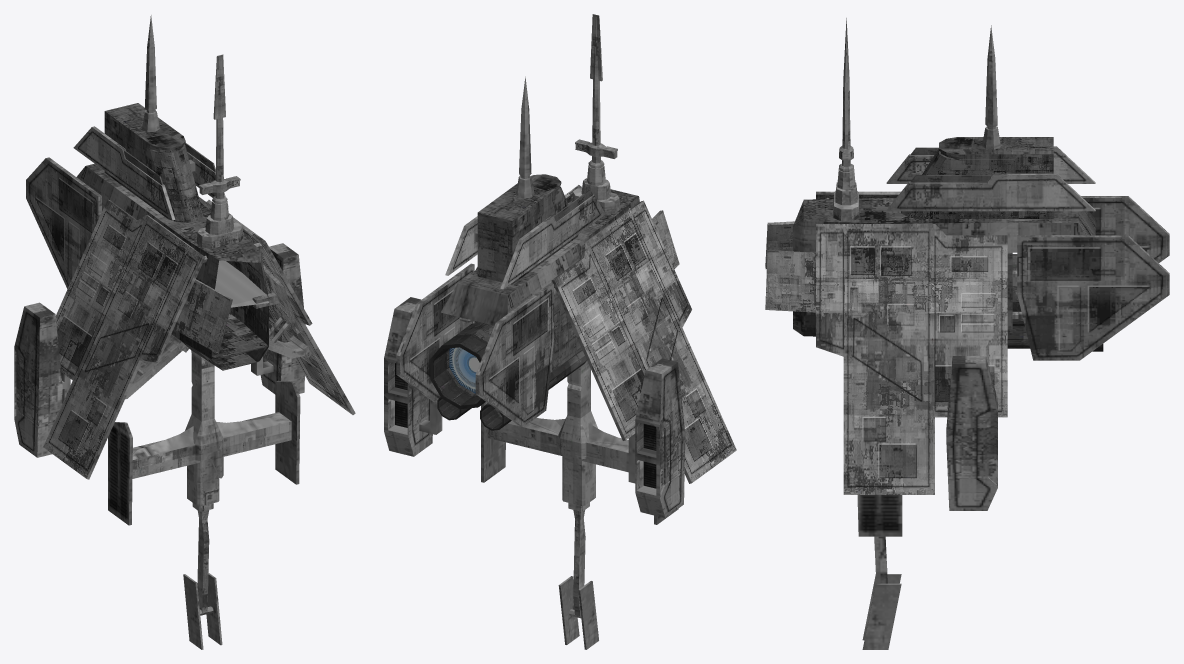
File: derriphan_chunk2.glb
3 views of the same model, side by side, from view 1: azimuth 30°, elevation 25°; view 2: azimuth 150°, elevation 25°; view 3: azimuth 270°, elevation 25° (orthographic). The views are drawn at different scales.
Parts seen in each view (by area): view 1: derriphan_chunk2_0; view 2: derriphan_chunk2_0; view 3: derriphan_chunk2_0.
Boxes of the visible parts, x1,y1,x2,y2 form: derriphan_chunk2_0: (14,15,355,649); derriphan_chunk2_0: (384,14,736,649); derriphan_chunk2_0: (765,18,1169,649).
Size of the model in its own units: 124 by 263 by 153.
1 material, 1 textured.
